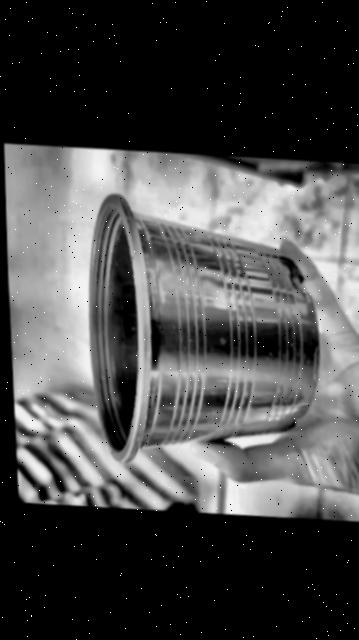pot: (89, 195, 318, 462)
